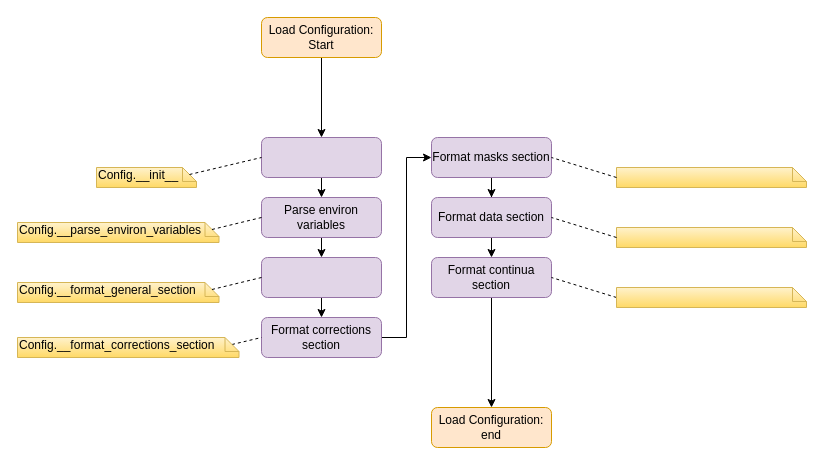
This 824x465 diagram has some shape labels left out. The centre of each missing label's shape, as x and y in pixels:
"Config.__format_continua_section" goes at (x=711, y=297).
"Config.__format_data_section" goes at (x=711, y=237).
"Config.__format_masks_section" goes at (x=711, y=177).
"Format general section" goes at (x=321, y=277).
"Load Configuration" goes at (x=321, y=157).
